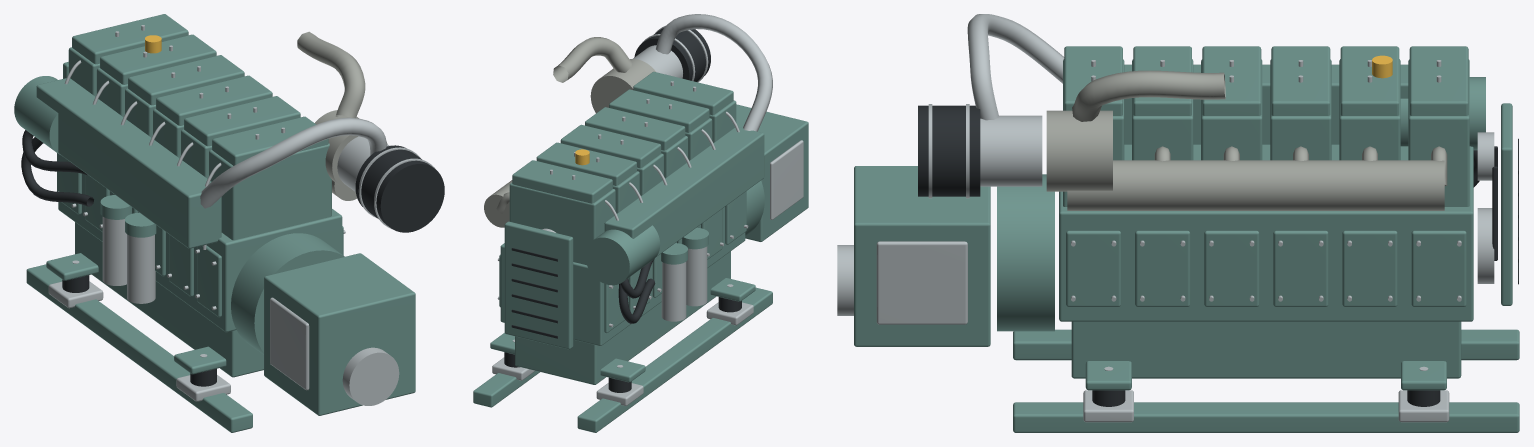
The model's file is marine_i6_coastal.glb.
The picture shows the model from 3 angles, left to right: view 1: azimuth 30°, elevation 25°; view 2: azimuth 150°, elevation 25°; view 3: azimuth 270°, elevation 25°; orthographic projection. The views are drawn at different scales.
Visible parts, largest first — view 1: marine_i6_coastal Engine_Paint.001, marine_i6_coastal Fixed_MachinedSteel.001, marine_i6_coastal Fixed_Rubber.001, marine_i6_coastal Fixed_HeatShield.001; view 2: marine_i6_coastal Engine_Paint.001, marine_i6_coastal Fixed_MachinedSteel.001, marine_i6_coastal Fixed_Rubber.001, marine_i6_coastal Fixed_HeatShield.001; view 3: marine_i6_coastal Engine_Paint.001, marine_i6_coastal Fixed_HeatShield.001, marine_i6_coastal Fixed_MachinedSteel.001, marine_i6_coastal Fixed_Rubber.001.
Boxes of the visible parts, x1=… form: marine_i6_coastal Engine_Paint.001: x1=14, y1=14, x2=415, y2=432; marine_i6_coastal Fixed_MachinedSteel.001: x1=48, y1=25, x2=435, y2=405; marine_i6_coastal Fixed_Rubber.001: x1=21, y1=130, x2=444, y2=386; marine_i6_coastal Fixed_HeatShield.001: x1=297, y1=31, x2=387, y2=200; marine_i6_coastal Engine_Paint.001: x1=473, y1=71, x2=808, y2=432; marine_i6_coastal Fixed_MachinedSteel.001: x1=492, y1=14, x2=803, y2=405; marine_i6_coastal Fixed_Rubber.001: x1=504, y1=28, x2=741, y2=392; marine_i6_coastal Fixed_HeatShield.001: x1=484, y1=37, x2=655, y2=227; marine_i6_coastal Engine_Paint.001: x1=854, y1=46, x2=1519, y2=432; marine_i6_coastal Fixed_HeatShield.001: x1=1046, y1=70, x2=1447, y2=210; marine_i6_coastal Fixed_MachinedSteel.001: x1=837, y1=14, x2=1494, y2=422; marine_i6_coastal Fixed_Rubber.001: x1=918, y1=105, x2=1518, y2=406.
Size of the model in its own units: 1.24 by 1.79 by 2.96.
